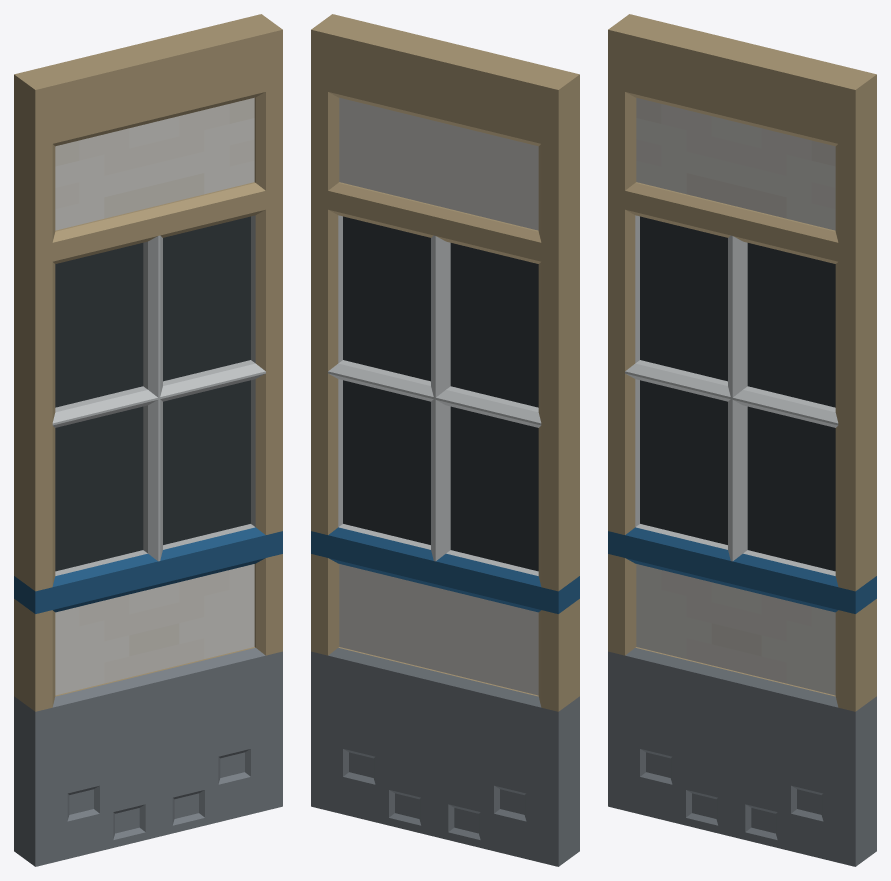
Rendered from school-wall-module-a09ccd.glb.
3 renders of one model, left to right at view 1: azimuth 30°, elevation 25°; view 2: azimuth 150°, elevation 25°; view 3: azimuth 330°, elevation 25°, orthographic.
Parts seen in each view (by area): view 1: wall; view 2: wall; view 3: wall.
Part boxes in pixels (x1,y1,x2,y2): wall: (14,14,282,866); wall: (311,14,579,866); wall: (608,14,876,866).
Bounding box in the file's own units: 1 × 3 × 0.15.
